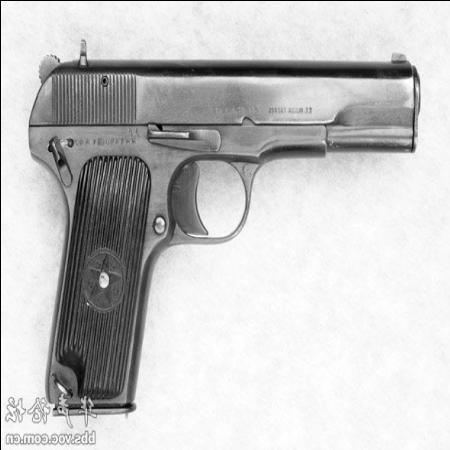Pistol: (29, 33, 423, 415)
